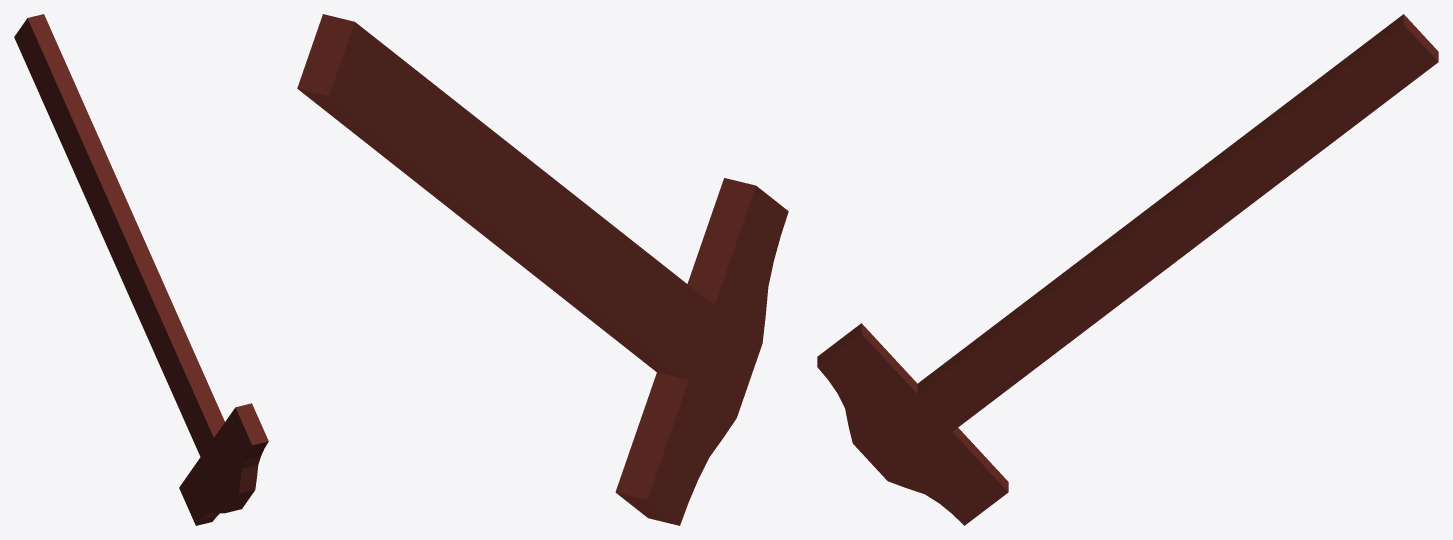
The model's file is PendulumFIX.fbx.
3 renders of one model, left to right at view 1: azimuth 30°, elevation 25°; view 2: azimuth 150°, elevation 25°; view 3: azimuth 270°, elevation 25°, orthographic. The views are drawn at different scales.
Parts seen in each view (by area): view 1: Pendulums.002; view 2: Pendulums.002; view 3: Pendulums.002.
Boxes of the visible parts, box(x1,y1,x2,y2) form: Pendulums.002: box(14, 14, 268, 525); Pendulums.002: box(297, 14, 788, 525); Pendulums.002: box(817, 14, 1438, 525).
Bounding box in the file's own units: 1215 × 48.69 × 1082.
